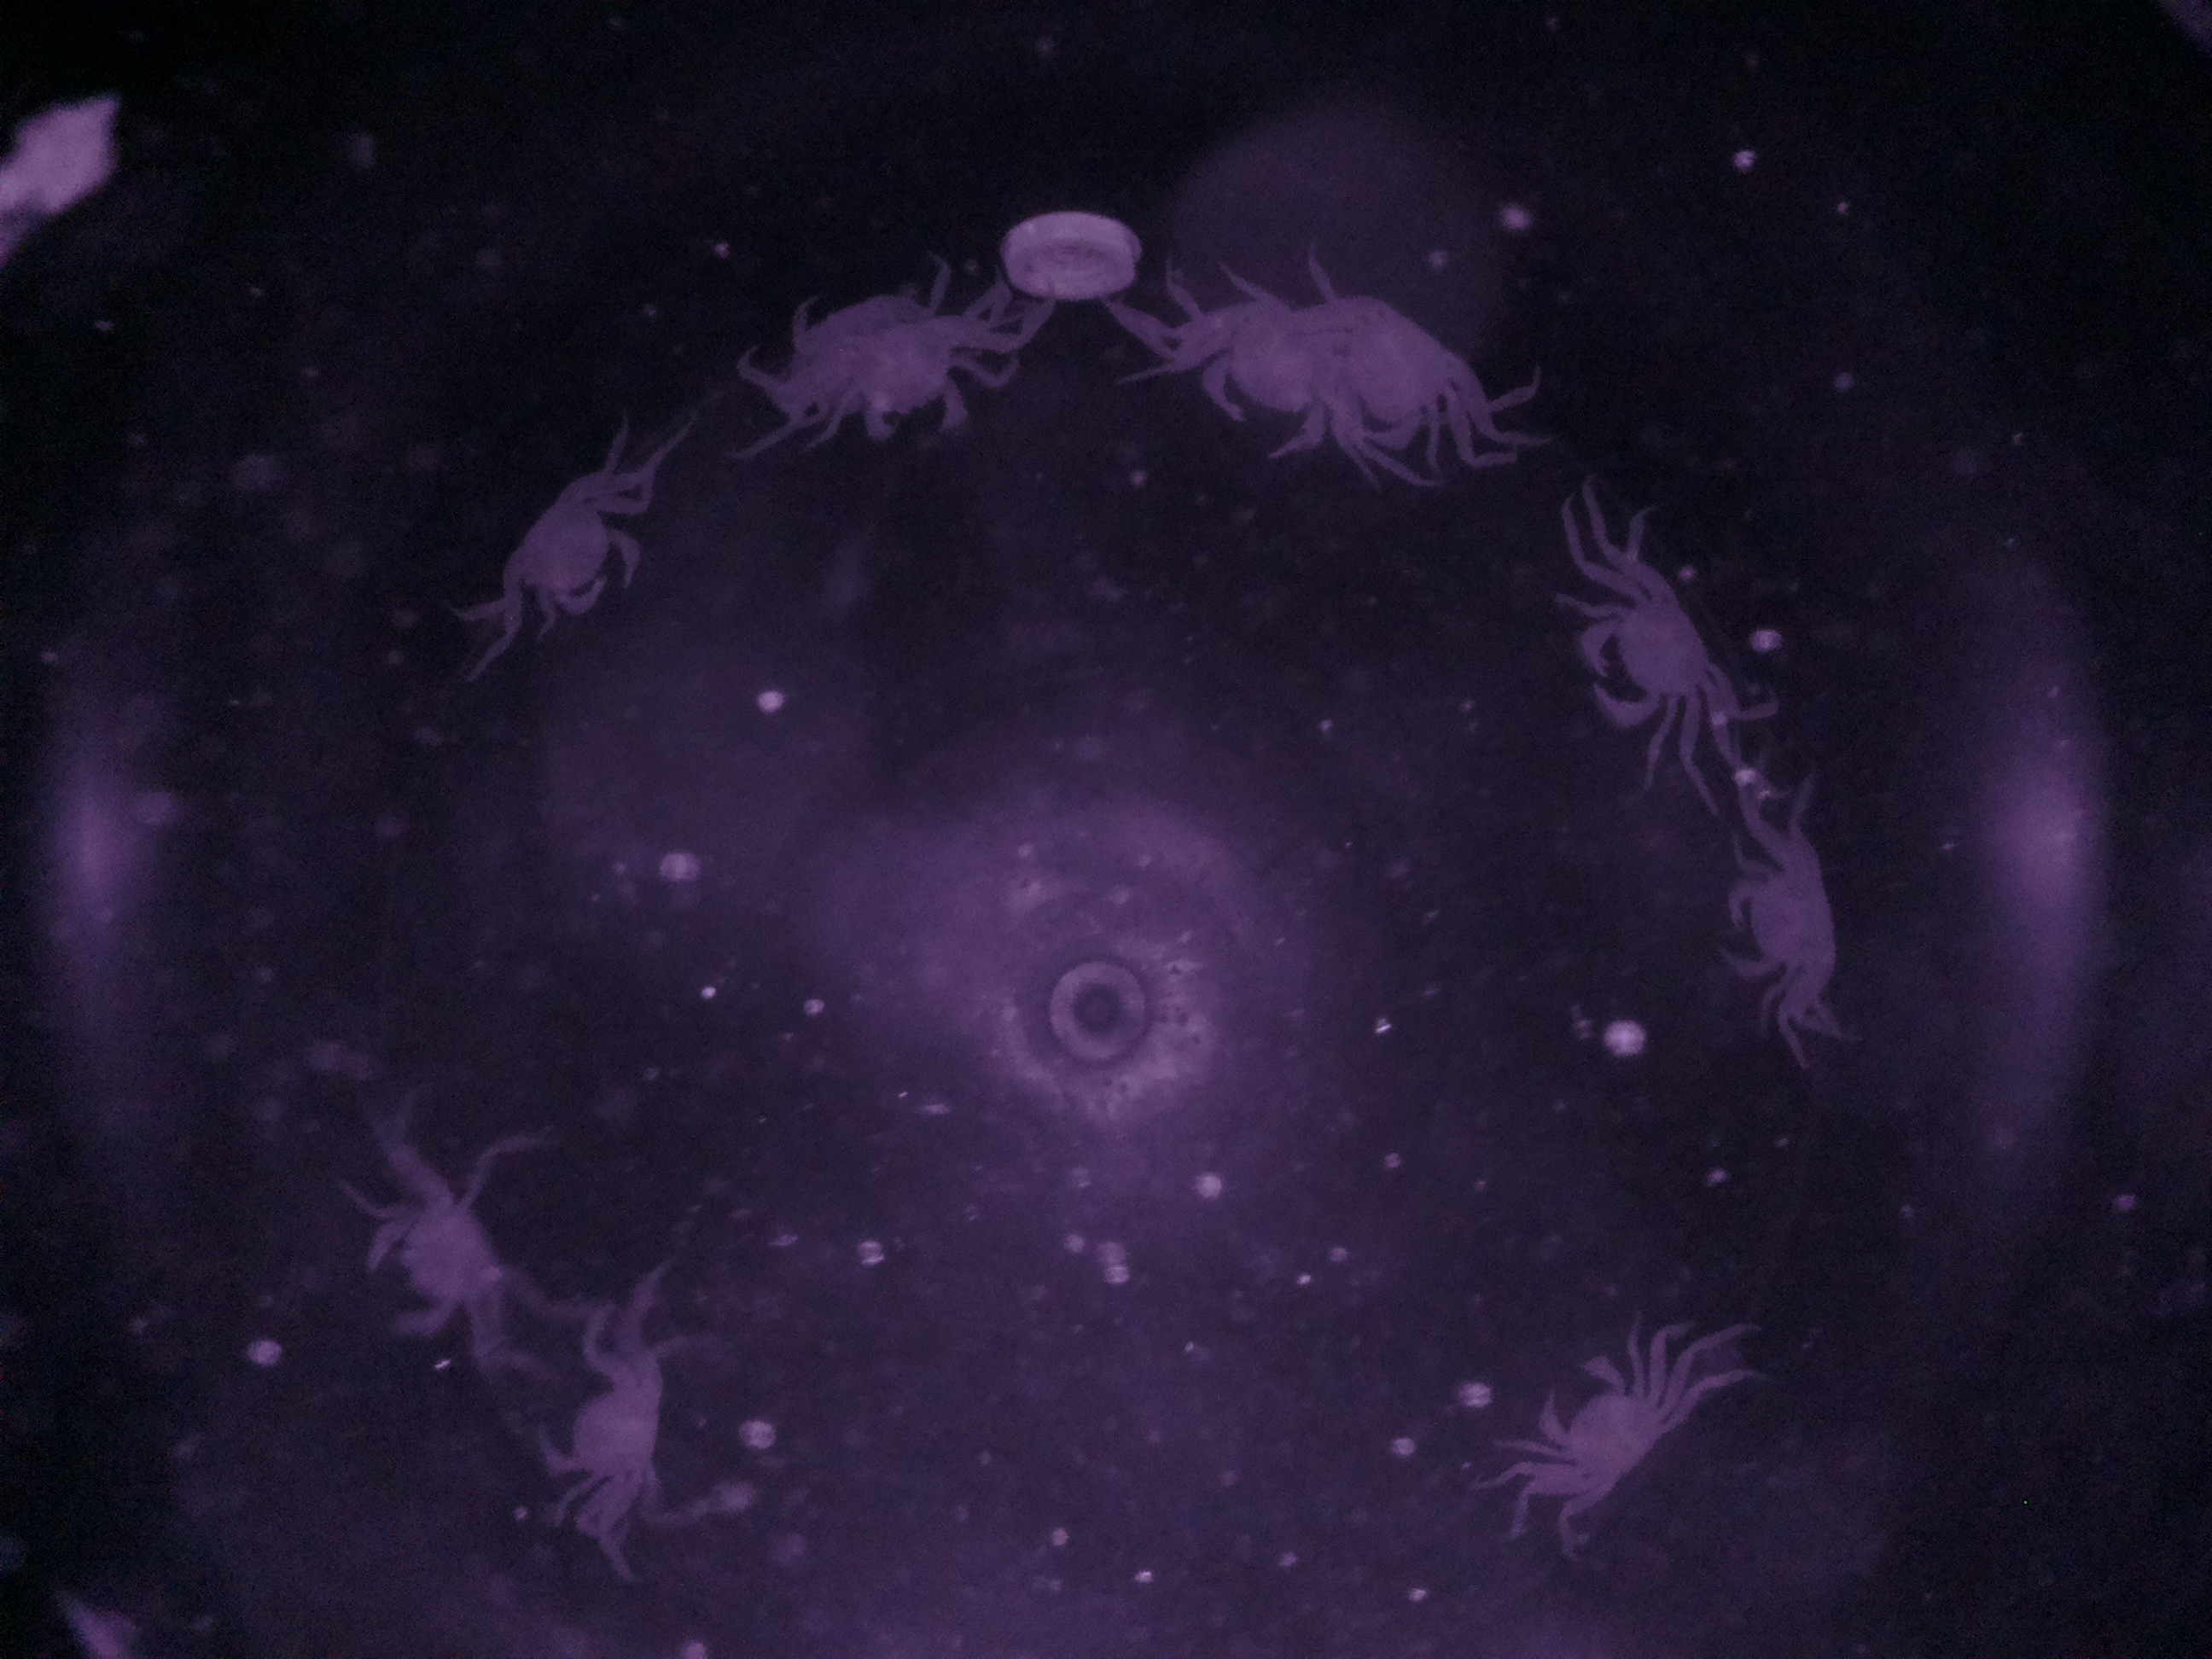Crab: (1503, 1300, 1705, 1549), (1550, 547, 1750, 763), (1700, 819, 1888, 1023), (488, 457, 669, 650)
